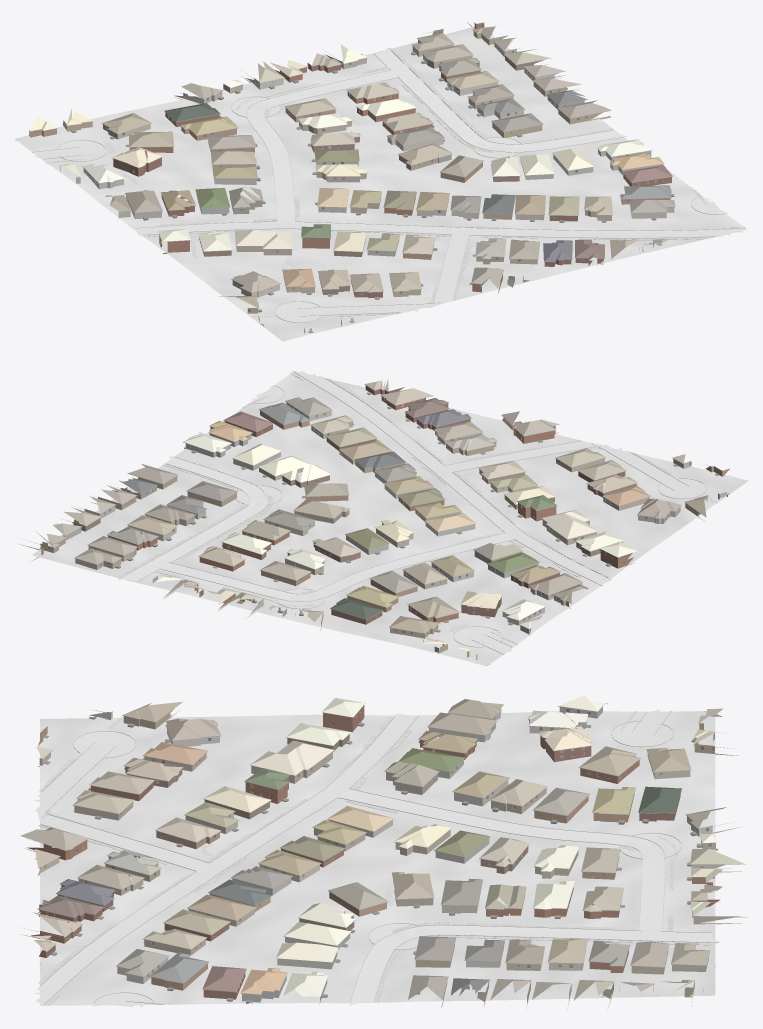
3 views of the same model, one above another, from view 1: azimuth 30°, elevation 25°; view 2: azimuth 150°, elevation 25°; view 3: azimuth 270°, elevation 25° (orthographic). The views are drawn at different scales.
Visible parts, largest first — view 1: ground, roof, concrete, wall, detail, asphalt, curb, walk, wall_stucco, wall_stone; view 2: ground, roof, wall, concrete, detail, asphalt, walk, wall_stucco, curb, wall_stone, glass; view 3: ground, roof, concrete, wall, asphalt, detail, walk, wall_stucco, curb, wall_stone, glass, mark_w (+1 smaller).
Boxes of the visible parts, x1,y1,x2,y2 form: ground: [15, 26, 746, 341]; roof: [30, 26, 675, 308]; concrete: [31, 47, 727, 322]; wall: [29, 22, 671, 333]; detail: [30, 22, 683, 332]; asphalt: [135, 221, 742, 237]; curb: [31, 48, 745, 322]; walk: [15, 48, 745, 317]; wall_stucco: [60, 42, 674, 326]; wall_stone: [83, 68, 562, 297]; ground: [32, 371, 748, 666]; roof: [35, 379, 708, 653]; wall: [21, 385, 729, 660]; concrete: [118, 385, 706, 654]; detail: [28, 384, 729, 656]; asphalt: [296, 371, 611, 584]; walk: [117, 372, 717, 665]; wall_stucco: [63, 402, 691, 638]; curb: [119, 371, 706, 654]; wall_stone: [84, 493, 719, 630]; glass: [47, 398, 691, 634]; ground: [40, 711, 715, 1005]; roof: [20, 695, 745, 1000]; concrete: [34, 709, 719, 1007]; wall: [22, 705, 741, 1007]; asphalt: [33, 713, 416, 1003]; detail: [25, 703, 746, 1003]; walk: [38, 711, 716, 1005]; wall_stucco: [38, 706, 741, 1003]; curb: [39, 710, 718, 1005]; wall_stone: [88, 711, 743, 1008]; glass: [43, 708, 714, 991]; mark_w: [41, 716, 650, 1005].
Size of the model in its own units: 272 by 12.29 by 272.
